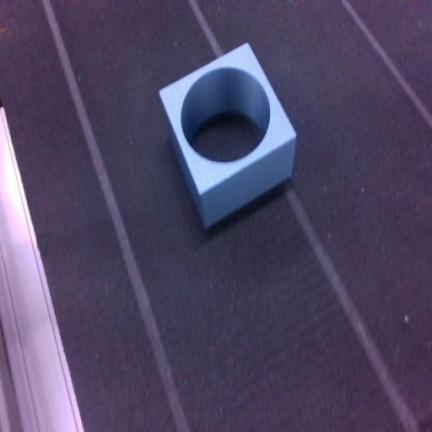square: (160, 44, 296, 226)
